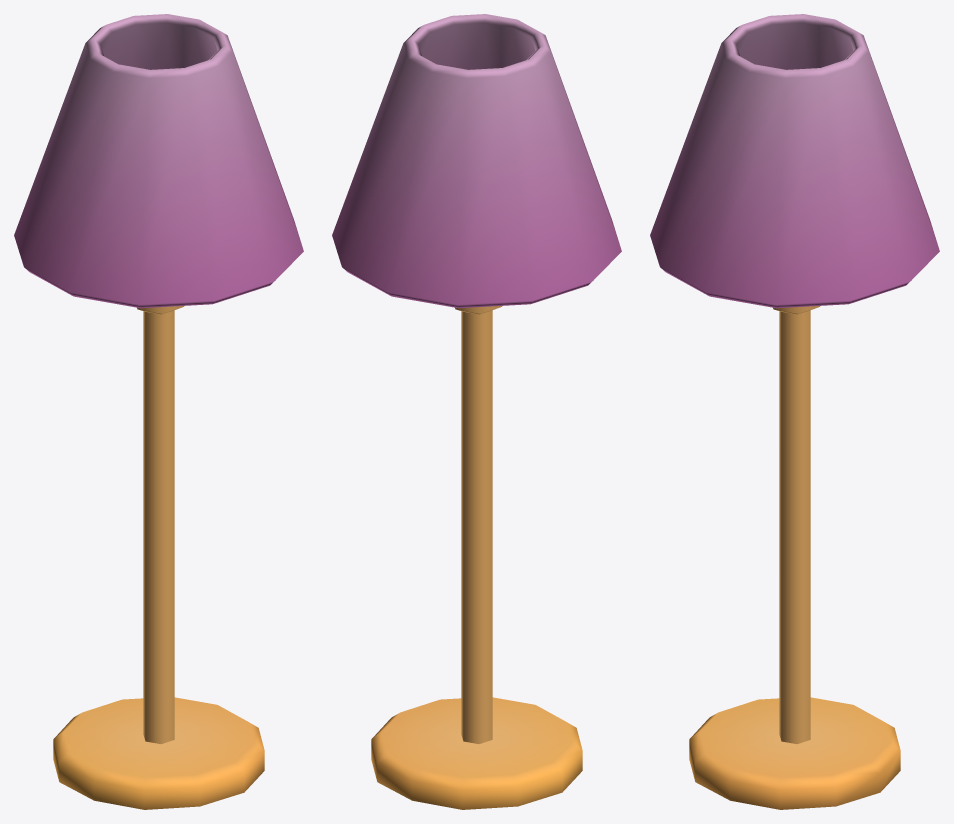
The model's file is Furniture_Lamp_07.fbx.
The picture shows the model from 3 angles, left to right: view 1: azimuth 30°, elevation 25°; view 2: azimuth 150°, elevation 25°; view 3: azimuth 270°, elevation 25°; orthographic projection.
Parts seen in each view (by area): view 1: Furniture_Lamp_07; view 2: Furniture_Lamp_07; view 3: Furniture_Lamp_07.
Boxes of the visible parts, x1,y1,x2,y2 form: Furniture_Lamp_07: (14, 14, 303, 809); Furniture_Lamp_07: (332, 14, 621, 809); Furniture_Lamp_07: (650, 14, 939, 809).
Size of the model in its own units: 114 by 314 by 114.
